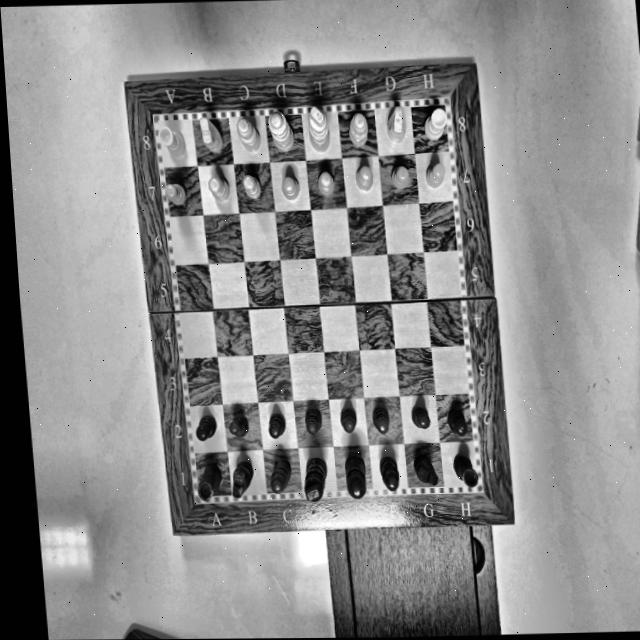black-bishop: (264, 457, 300, 498), (376, 458, 405, 492)
black-king: (295, 449, 337, 505)
black-knight: (224, 458, 260, 502), (407, 451, 442, 489)
black-pawn: (445, 404, 471, 440), (192, 413, 219, 447), (334, 403, 361, 435), (406, 403, 436, 431), (365, 403, 392, 433), (223, 415, 251, 443), (264, 412, 287, 440), (302, 408, 324, 432)
black-queen: (340, 455, 374, 501)
black-rook: (191, 462, 227, 505), (449, 452, 480, 489)
white-bishop: (231, 115, 262, 153), (345, 109, 372, 147)
white-king: (302, 101, 331, 152)
white-knight: (195, 115, 228, 156), (383, 104, 408, 144)
white-pawn: (420, 156, 451, 188), (205, 173, 232, 205), (315, 165, 338, 201), (239, 170, 264, 202), (279, 171, 303, 202), (162, 179, 187, 208), (351, 164, 375, 194), (388, 163, 411, 191)
white-queen: (262, 108, 296, 153)
white-rook: (155, 122, 187, 158), (421, 102, 448, 144)
